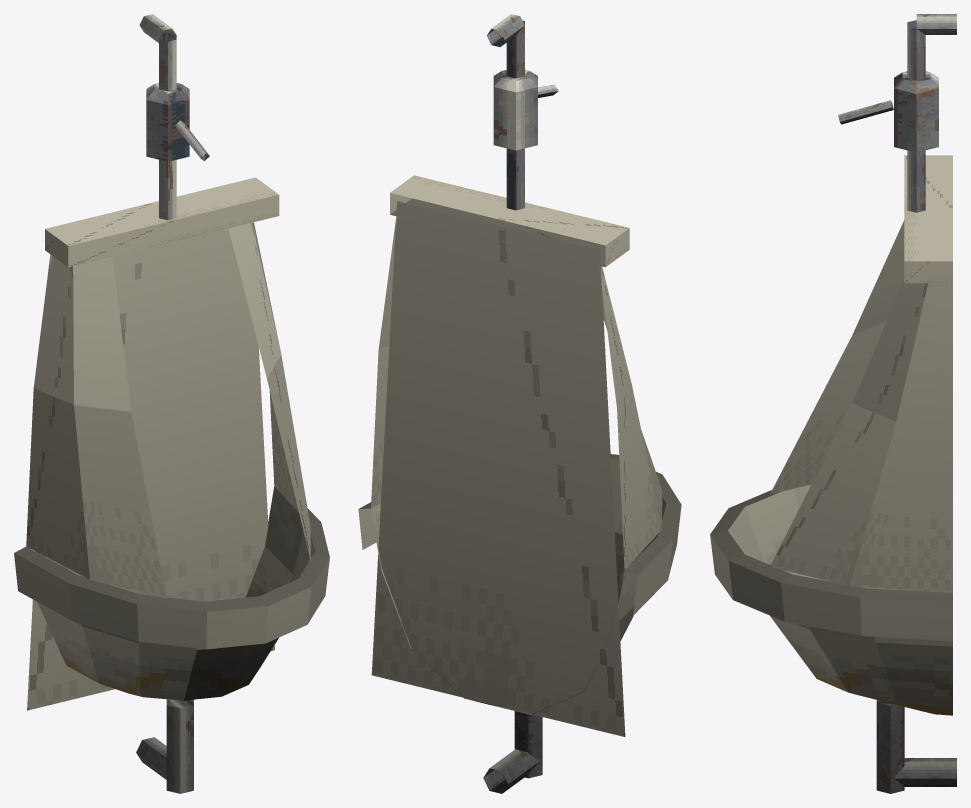
File: prop_urinal-1.glb
The picture shows the model from 3 angles, left to right: view 1: azimuth 30°, elevation 25°; view 2: azimuth 150°, elevation 25°; view 3: azimuth 270°, elevation 25°; orthographic projection. The views are drawn at different scales.
Visible parts, largest first — view 1: prop_urinal-1; view 2: prop_urinal-1; view 3: prop_urinal-1.
Part boxes in pixels (x1,y1,x2,y2): prop_urinal-1: (14, 14, 329, 793); prop_urinal-1: (358, 14, 681, 793); prop_urinal-1: (710, 14, 956, 793).
Bounding box in the file's own units: 0.4008 × 1.05 × 0.3054.
3 materials, 3 textured.
